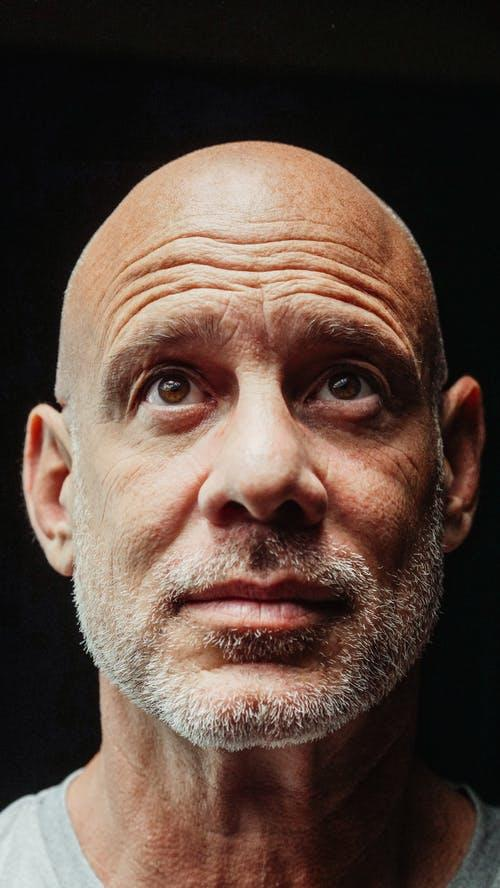Wrinkles: (132, 258, 404, 318), (109, 286, 241, 346), (269, 290, 404, 341), (108, 233, 231, 286), (219, 237, 382, 265), (287, 249, 386, 285), (102, 445, 155, 484), (376, 447, 414, 496), (117, 279, 180, 307), (371, 269, 410, 303), (382, 442, 420, 476), (100, 474, 119, 526), (104, 285, 124, 312), (217, 295, 231, 330), (222, 319, 239, 346), (263, 277, 306, 284), (249, 219, 305, 223), (232, 281, 261, 288), (262, 295, 266, 332), (392, 290, 402, 301), (112, 549, 113, 585)
